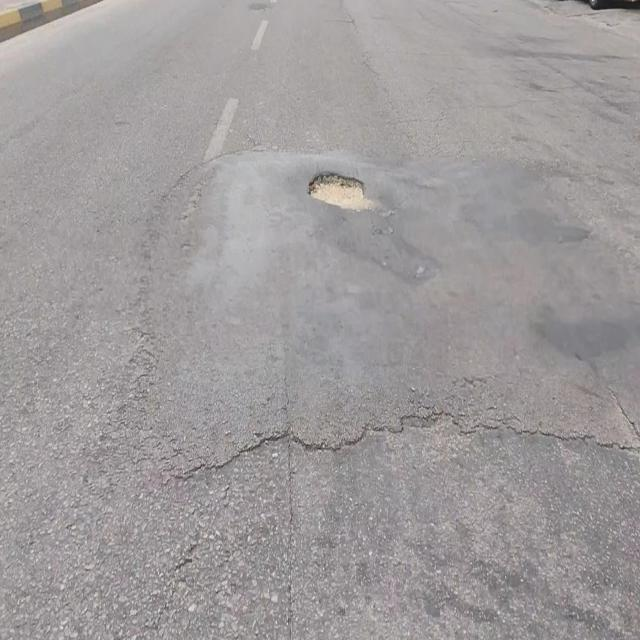Potholes: (309, 169, 366, 215)
